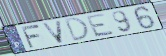6: (133, 6, 157, 31)
9: (112, 10, 134, 33)
D: (64, 16, 91, 43)
E: (85, 12, 117, 38)
F: (19, 23, 41, 49)
V: (41, 19, 65, 44)
